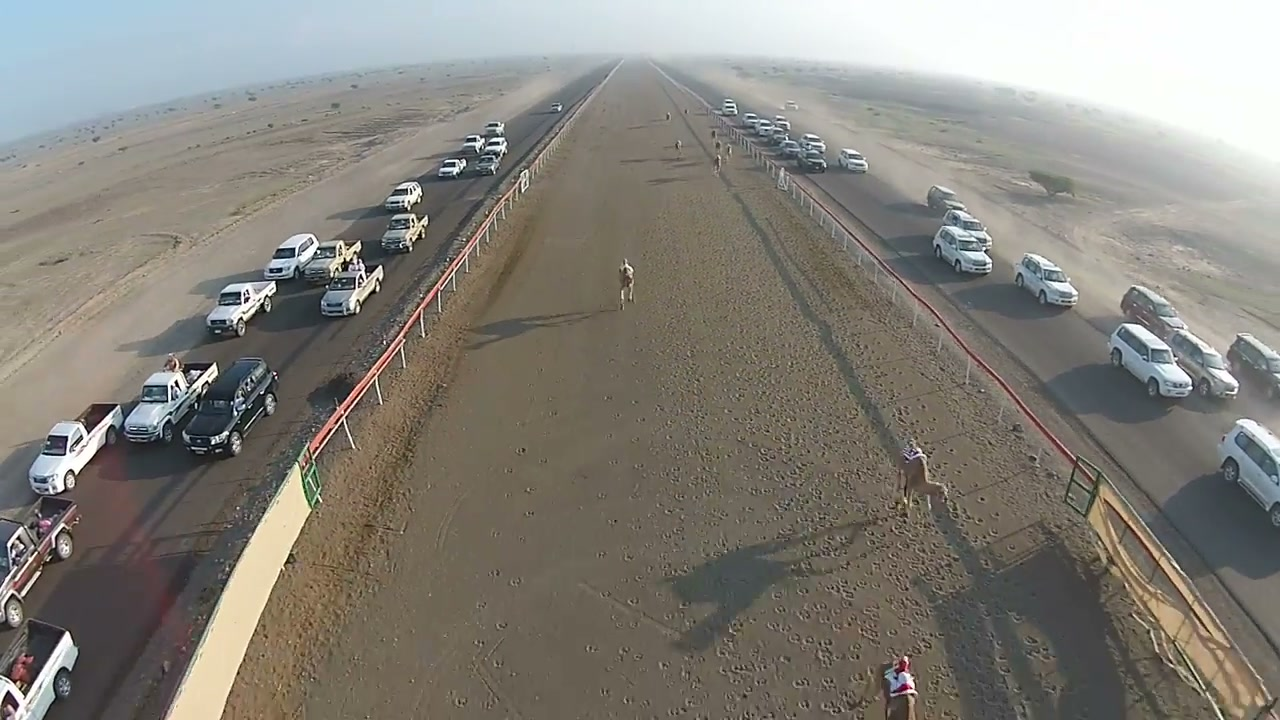animal_foot_print: (719, 438, 937, 719), (702, 167, 879, 468), (580, 318, 704, 719), (431, 351, 546, 718)
